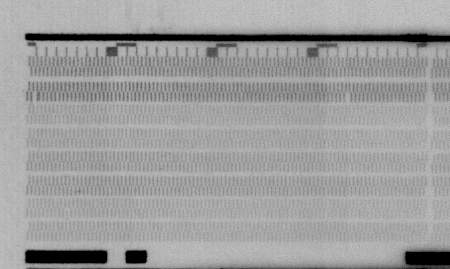Broken hole: (342, 94, 353, 104)
Oblique printing: (30, 92, 42, 104)
